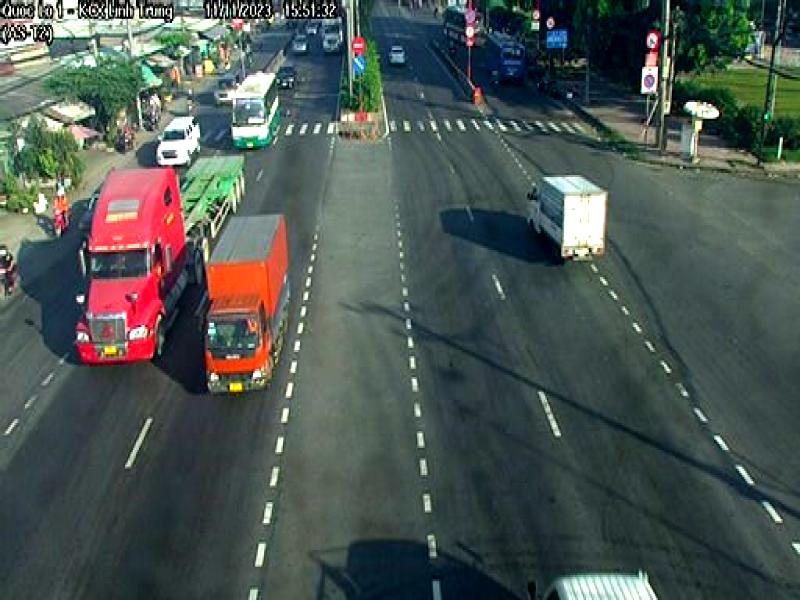bus: (232, 68, 279, 150), (482, 29, 529, 84)
truck: (74, 151, 248, 362), (204, 210, 292, 398), (528, 173, 609, 266)
